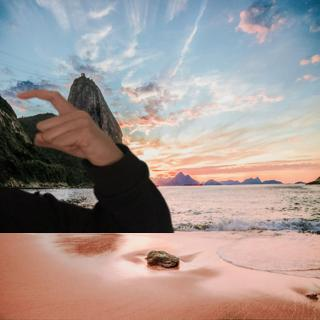WHY: (9, 82, 123, 165)
